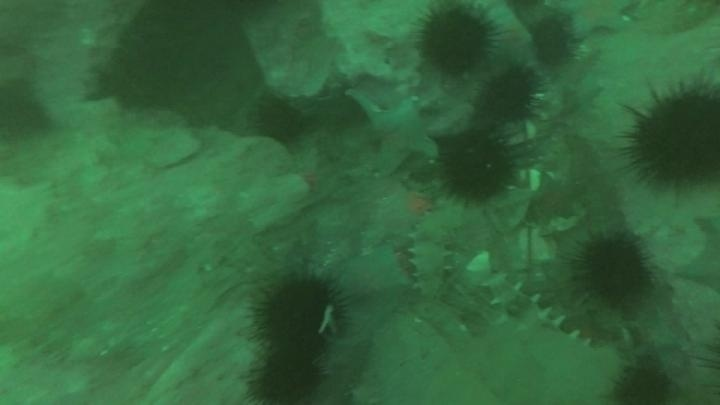echinus: (621, 80, 719, 190), (252, 273, 347, 353), (100, 35, 192, 111), (436, 129, 518, 205), (414, 7, 499, 78), (573, 232, 653, 307), (247, 346, 326, 404), (475, 67, 541, 125), (1, 78, 52, 142), (607, 361, 674, 404), (253, 96, 306, 147), (528, 17, 576, 67)
holothurian: (477, 269, 618, 375), (406, 206, 464, 299)
starfish: (341, 87, 437, 177), (338, 244, 413, 307), (1, 174, 57, 250), (676, 214, 720, 295), (377, 183, 439, 237), (625, 310, 683, 363), (557, 1, 633, 41)
